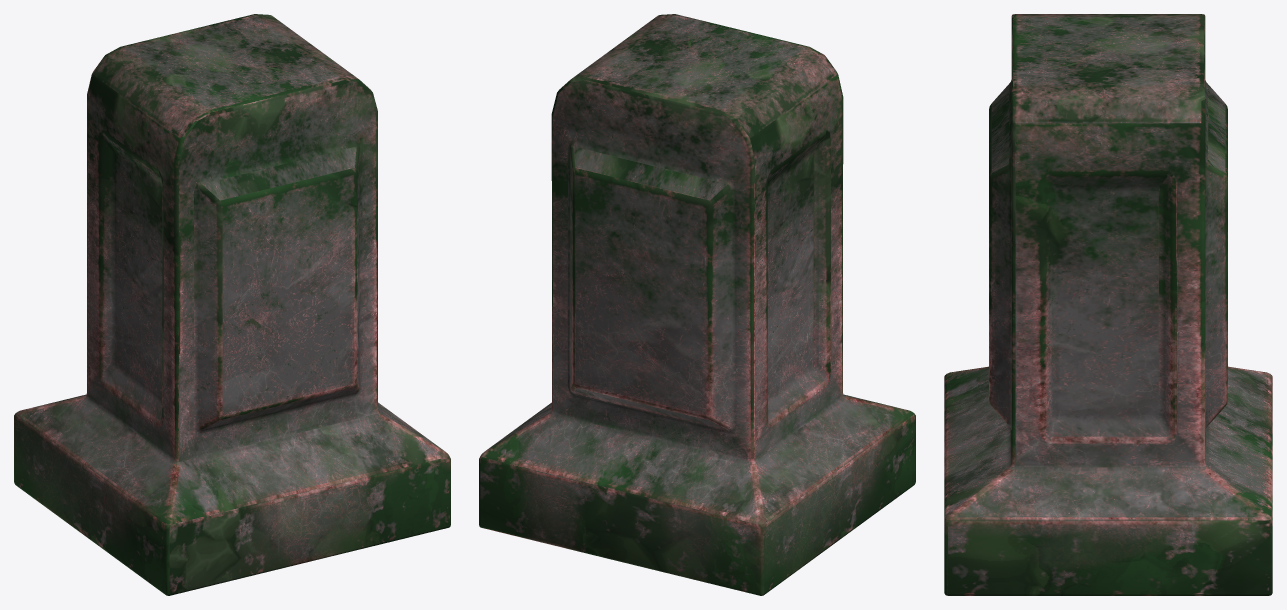
Rendered from grave5.fbx.
The picture shows the model from 3 angles, left to right: view 1: azimuth 30°, elevation 25°; view 2: azimuth 150°, elevation 25°; view 3: azimuth 270°, elevation 25°; orthographic projection. The views are drawn at different scales.
Parts seen in each view (by area): view 1: grave5; view 2: grave5; view 3: grave5.
Part boxes in pixels (left/top/right/bottom): grave5: left=14, top=14, right=450, bottom=595; grave5: left=479, top=14, right=915, bottom=595; grave5: left=944, top=14, right=1272, bottom=595.
Size of the model in its own units: 316 by 471 by 297.
1 material, 1 textured.
